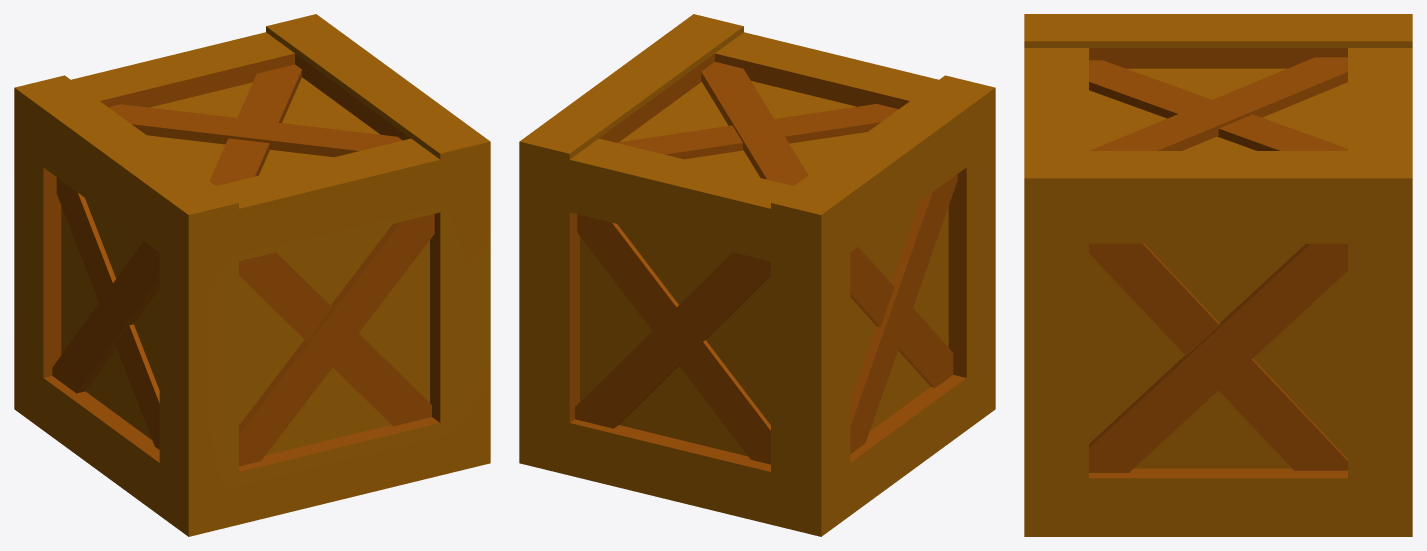
The model's file is CaixaMadeira.glb.
The picture shows the model from 3 angles, left to right: view 1: azimuth 30°, elevation 25°; view 2: azimuth 150°, elevation 25°; view 3: azimuth 270°, elevation 25°; orthographic projection. The views are drawn at different scales.
Parts seen in each view (by area): view 1: CaixaMadeira; view 2: CaixaMadeira; view 3: CaixaMadeira.
Part boxes in pixels (left/top/right/bottom): CaixaMadeira: left=14, top=14, right=490, bottom=536; CaixaMadeira: left=519, top=14, right=995, bottom=536; CaixaMadeira: left=1024, top=14, right=1412, bottom=536.
Bounding box in the file's own units: 2 × 2.04 × 2.
1 material, 1 textured.
